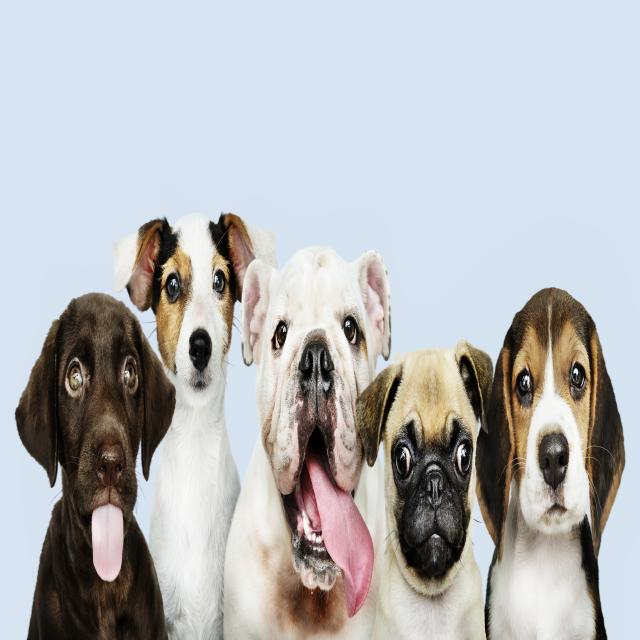dog: (114, 210, 257, 640), (237, 243, 390, 640), (17, 293, 173, 640), (476, 285, 627, 640), (361, 344, 494, 640)
